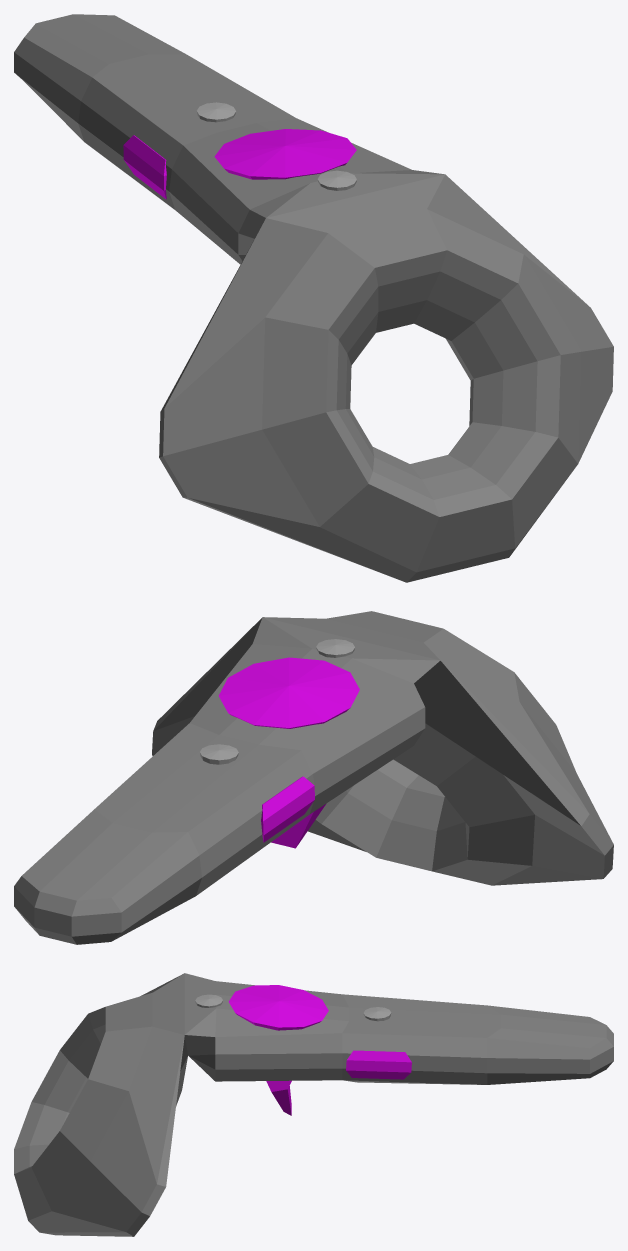
The model's file is vr_controller.glb.
3 views of the same model, one above another, from view 1: azimuth 30°, elevation 25°; view 2: azimuth 150°, elevation 25°; view 3: azimuth 270°, elevation 25° (orthographic). The views are drawn at different scales.
Visible parts, largest first — view 1: Torus; view 2: Torus; view 3: Torus.
Part boxes in pixels (box(x1,y1,x2,y2)): Torus: box(14, 14, 613, 582); Torus: box(14, 611, 613, 944); Torus: box(14, 973, 613, 1236).
Size of the model in its own units: 0.4769 by 0.3097 by 0.7683.
